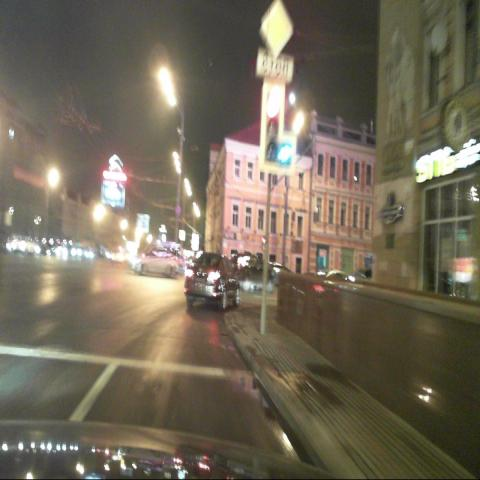6_16: (256, 52, 294, 83)
